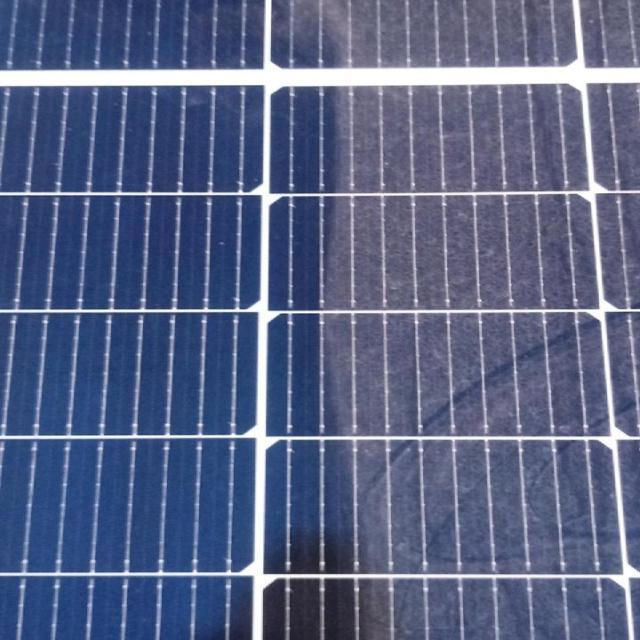Normal Solar Panel: (0, 0, 258, 627)
